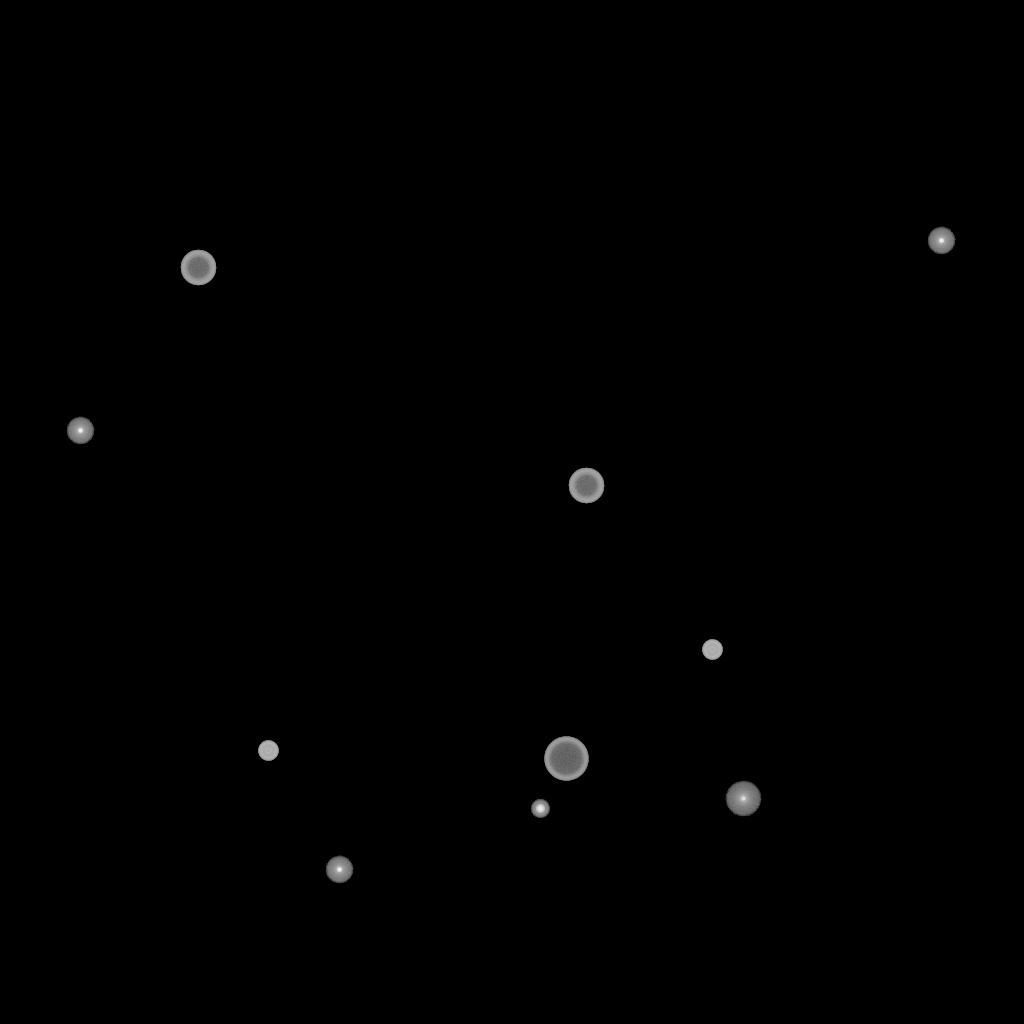depth:-10: (927, 227, 955, 255), (66, 417, 94, 445), (325, 856, 353, 884)
depth:-20: (531, 800, 549, 818)
depth:-40: (702, 640, 722, 660), (258, 741, 278, 761)
depth:-60: (180, 250, 216, 286), (568, 468, 604, 504)
depth:-70: (544, 737, 588, 781)
depth:0: (725, 781, 761, 817)
